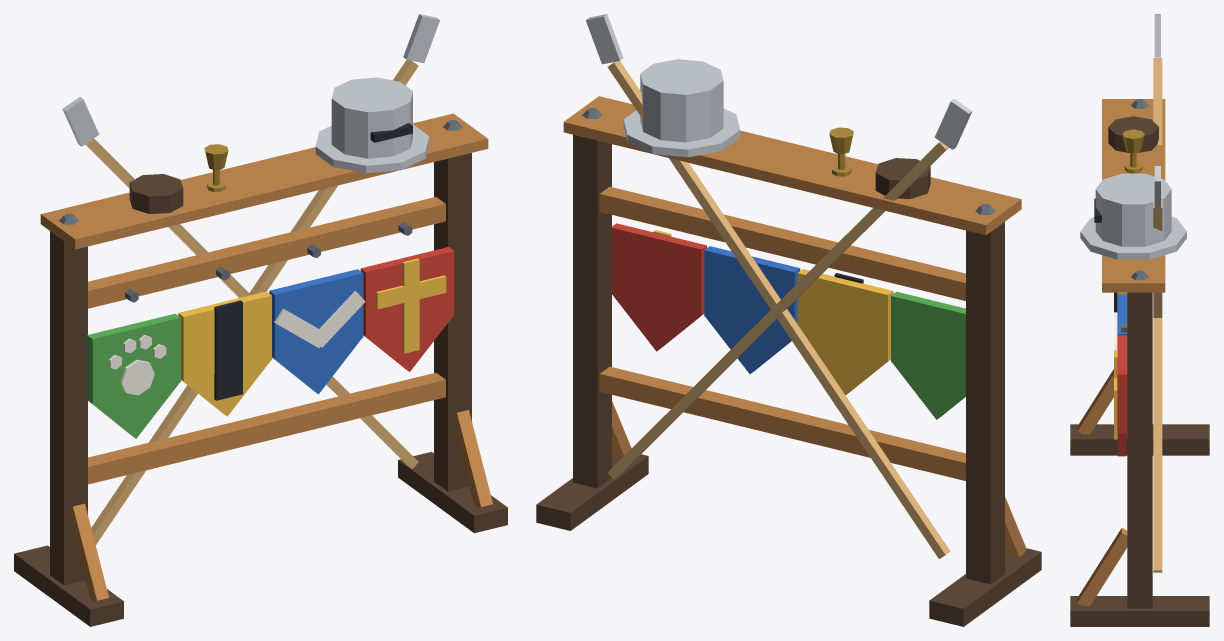
File: CatCafe_Decor_ShieldRack.glb
3 renders of one model, left to right at view 1: azimuth 30°, elevation 25°; view 2: azimuth 150°, elevation 25°; view 3: azimuth 270°, elevation 25°, orthographic. The views are drawn at different scales.
Parts seen in each view (by area): view 1: CatCafe_Decor_ShieldRack; view 2: CatCafe_Decor_ShieldRack; view 3: CatCafe_Decor_ShieldRack.
Boxes of the visible parts, <box> form: CatCafe_Decor_ShieldRack: <box>14,14,507,626</box>; CatCafe_Decor_ShieldRack: <box>536,14,1041,626</box>; CatCafe_Decor_ShieldRack: <box>1070,14,1209,626</box>.
Size of the model in its own units: 3.48 by 3.86 by 1.1.
1 material, 1 textured.
